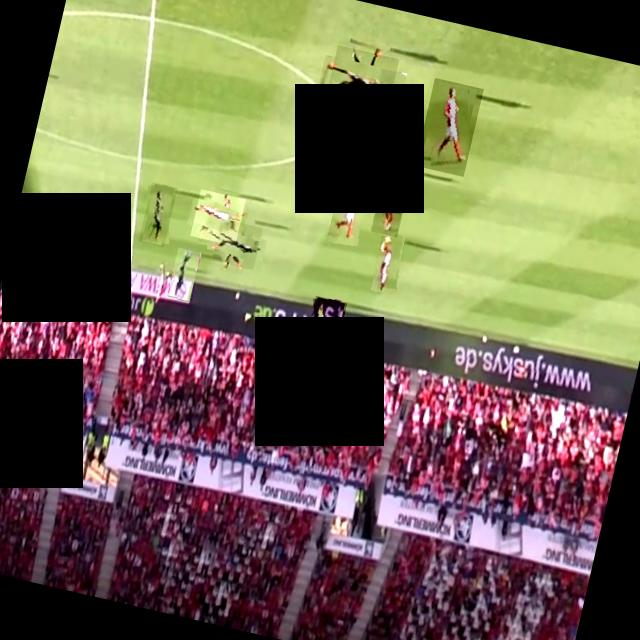referee: (304, 296, 347, 352)
soccer-player: (414, 77, 483, 176), (323, 45, 399, 122), (324, 169, 372, 248), (371, 159, 414, 237), (190, 189, 246, 246), (212, 218, 262, 270), (138, 182, 177, 247), (369, 230, 406, 295), (19, 232, 66, 279), (167, 247, 200, 301), (7, 230, 27, 258)
